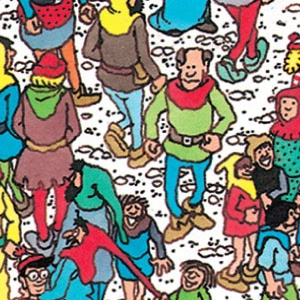Wenda: (119, 131, 181, 169)
